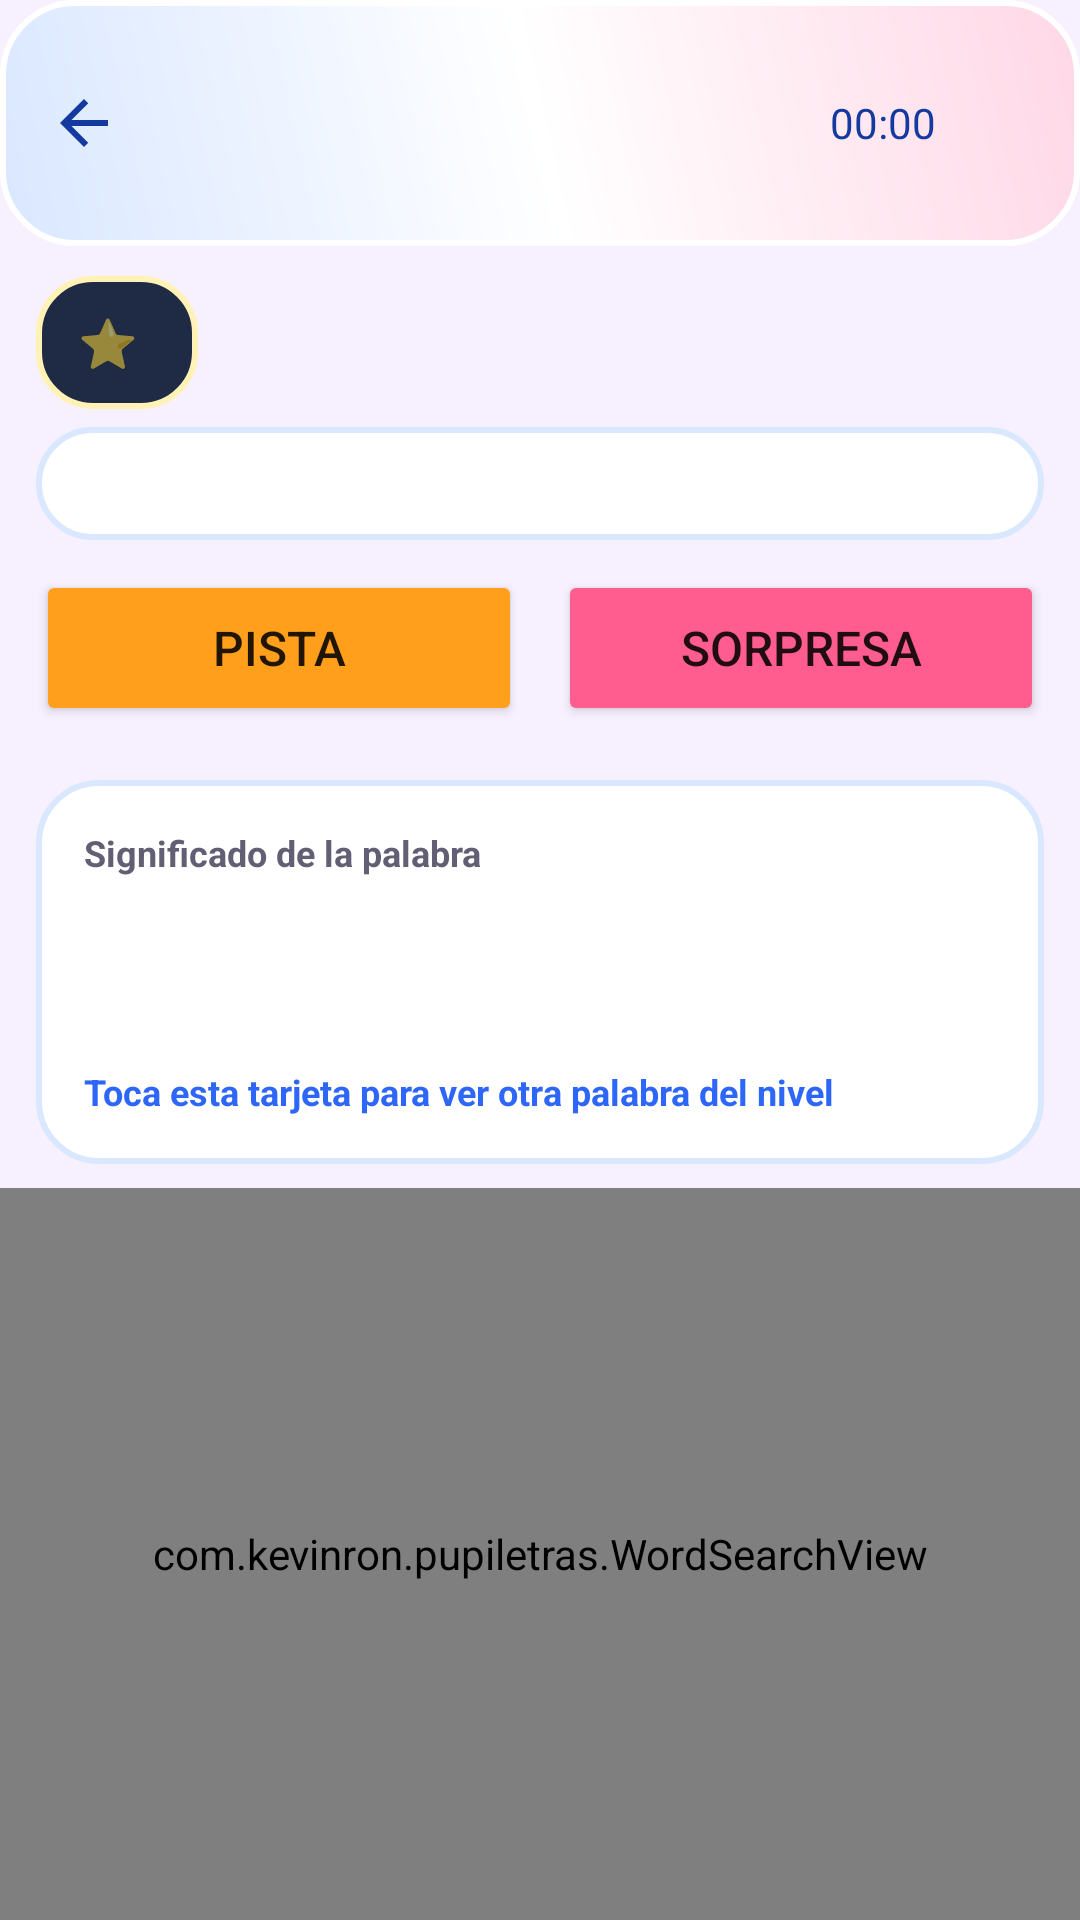

Icon click points for this 1080 × 1920 phone screenshot, format [x,y]:
Volver: [84,123]
